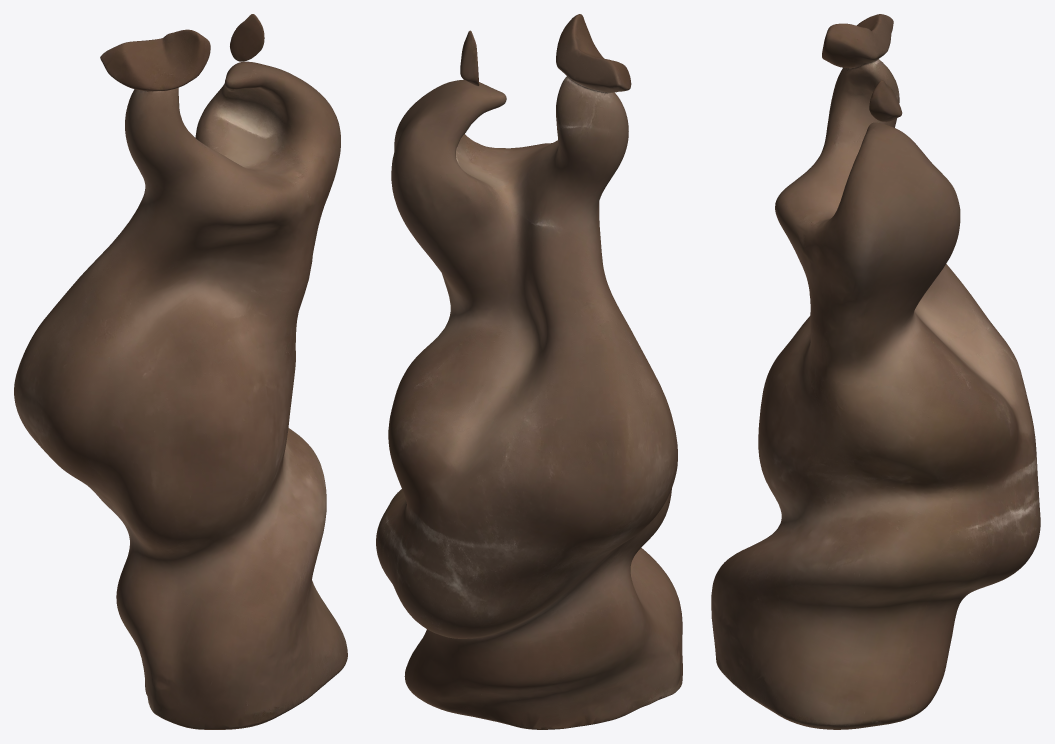
The model's file is skulptur-1b.glb.
3 renders of one model, left to right at view 1: azimuth 30°, elevation 25°; view 2: azimuth 150°, elevation 25°; view 3: azimuth 270°, elevation 25°, orthographic. The views are drawn at different scales.
Visible parts, largest first — view 1: Mesh_0; view 2: Mesh_0; view 3: Mesh_0.
Part boxes in pixels (left/top/right/bottom): Mesh_0: left=14, top=14, right=347, bottom=729; Mesh_0: left=376, top=14, right=682, bottom=729; Mesh_0: left=711, top=14, right=1040, bottom=729.
Size of the model in its own units: 0.806 by 1.82 by 0.8395.
Materials: 1 (1 with a texture image).
